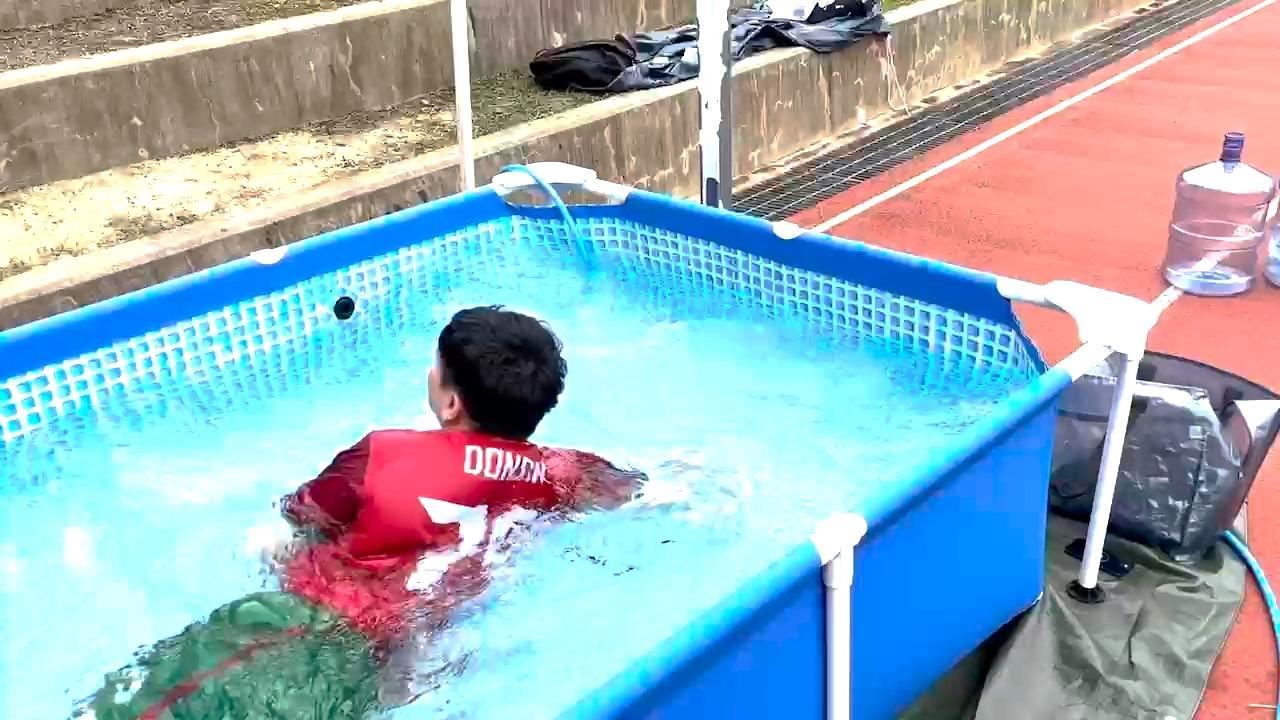Swimming: (24, 227, 695, 720)
